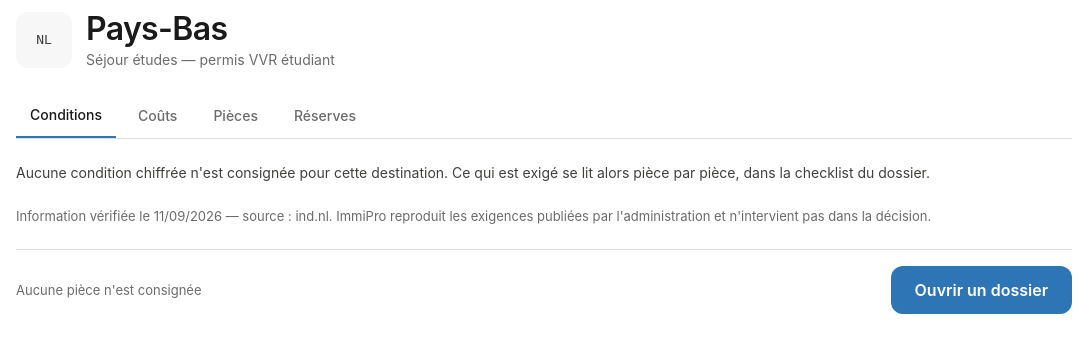
it: C-04 — Fiche détaillée › quand une section n'a rien à montrer › l'onglet Réserves dit ce qu'il en est au lieu de se taire
Click the tab "Réserves": (325, 116) top-left (280, 94), bottom-right (370, 138)
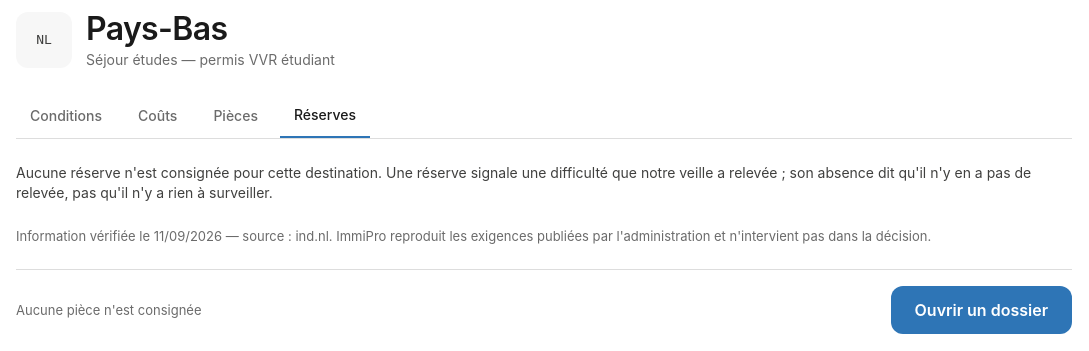
Expected: the panel does not show ""
Expected: the panel shows "Aucune réserve n'est consignée pour cette destination. Une réserve signale une difficulté que notre veille a relevée ; son absence dit qu'il n'y en a pas de rel", top-left (16, 164), bottom-right (1031, 201)
